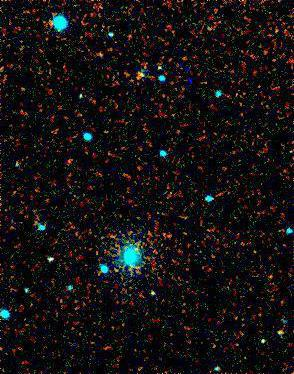star: (99, 259, 129, 289)
